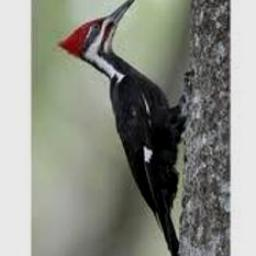Woodpecker: (56, 0, 187, 256)
